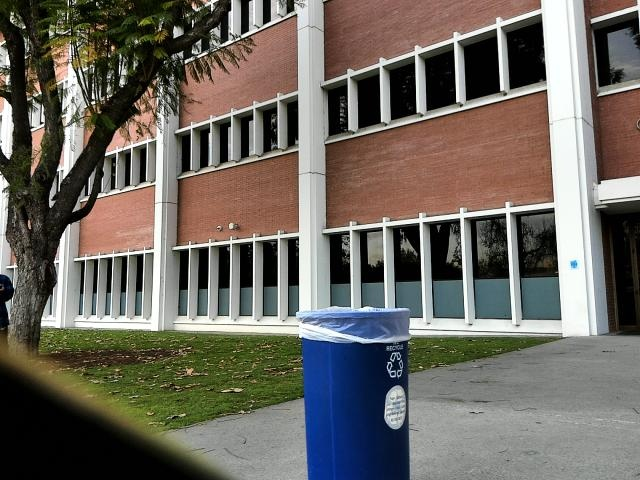trashcan_open: (296, 303, 417, 480)
